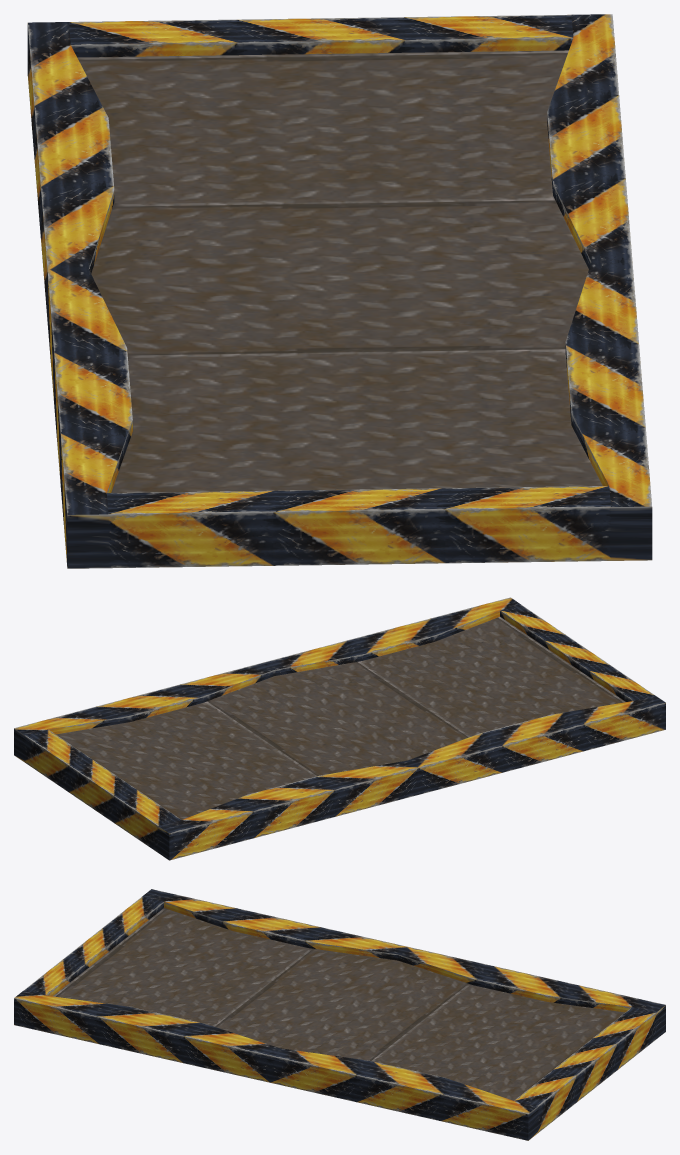
The model's file is hj2-stadd-mesh.glb.
3 views of the same model, one above another, from view 1: azimuth 30°, elevation 25°; view 2: azimuth 150°, elevation 25°; view 3: azimuth 270°, elevation 25° (orthographic). The views are drawn at different scales.
Parts seen in each view (by area): view 1: hj2-stadd-props; view 2: hj2-stadd-props; view 3: hj2-stadd-props.
Part boxes in pixels (x1,y1,x2,y2): hj2-stadd-props: (27,14,652,568); hj2-stadd-props: (14,597,665,860); hj2-stadd-props: (14,889,665,1140).
Bounding box in the file's own units: 18.11 × 1.01 × 22.18.
Materials: 4 (4 with a texture image).
